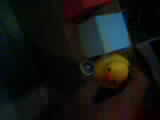duck: (86, 47, 125, 88)
